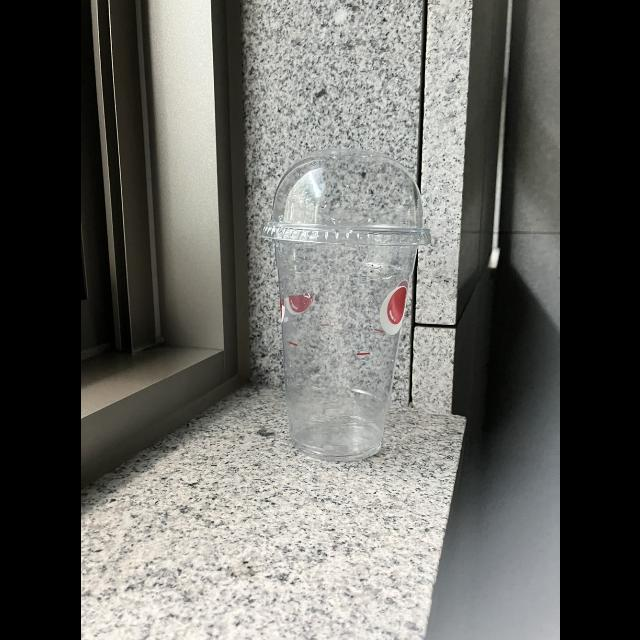plastic_cup: (270, 134, 442, 480)
plastic_cup_lid: (261, 153, 441, 251)
